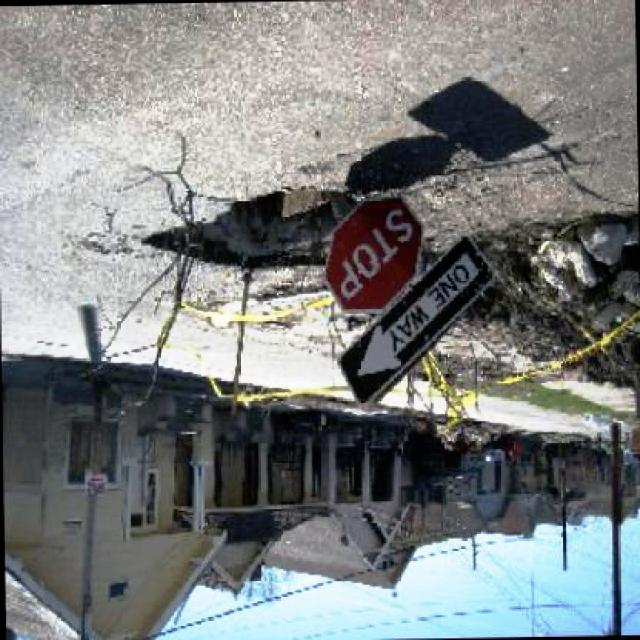pothole: (134, 185, 371, 272)
